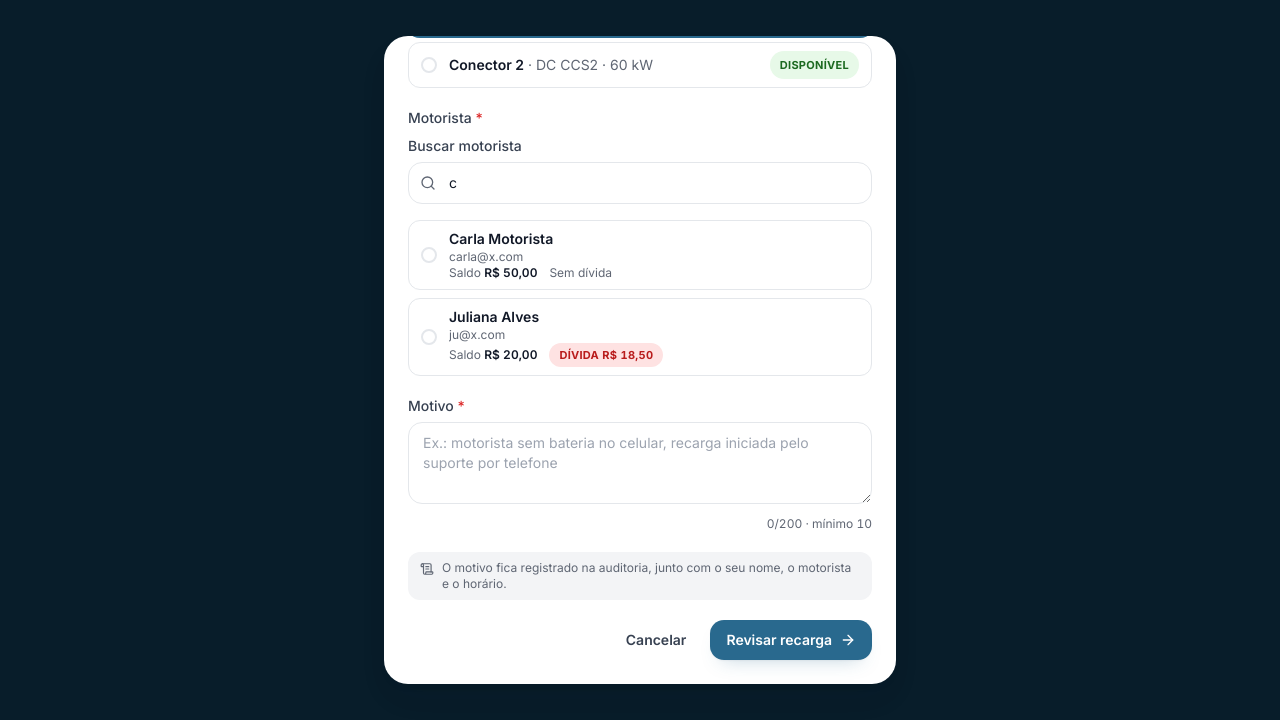
Test: RemoteStartDialog — dinheiro de uma PESSOA: preencher, CONFIRMAR, só então enviar › formulário vazio: 'Revisar' mostra o que falta (conector, motorista, motivo) e NÃO envia nem avança
(page scrolled)
Click the button "Revisar recarga": x=791, y=640 [710,620,872,660]
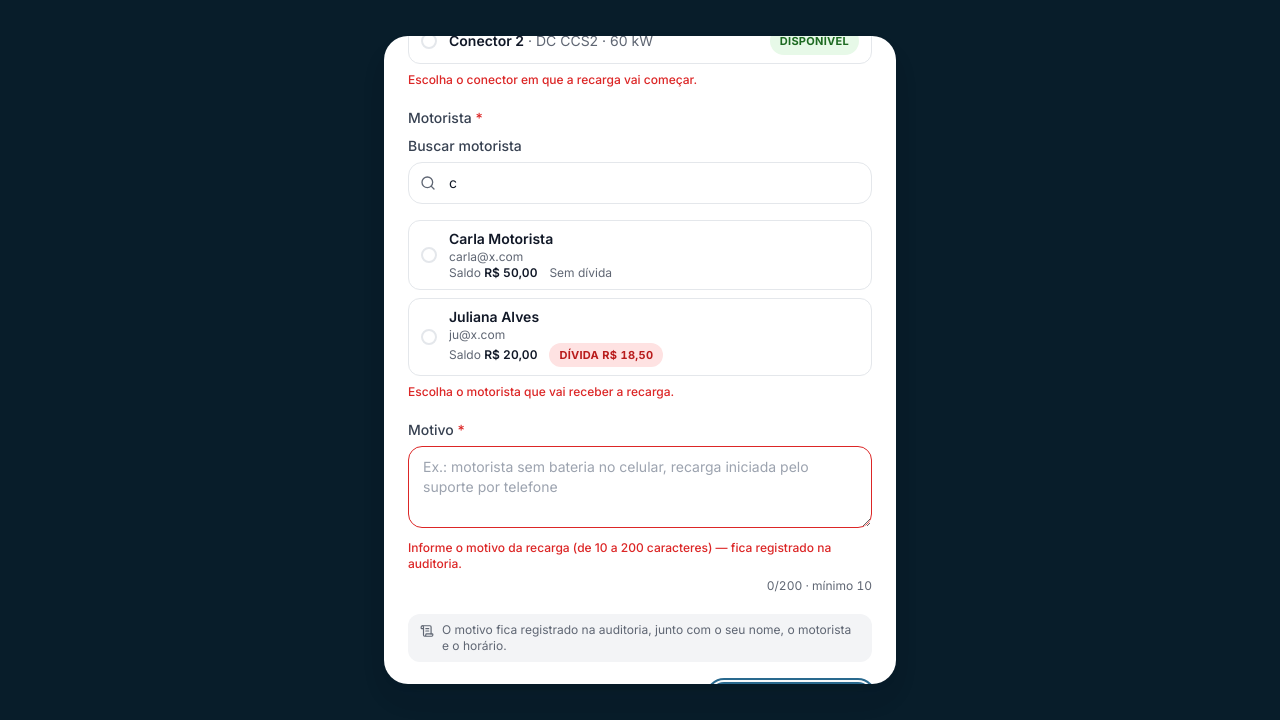
Expected: the text "Escolha o conector em que a recarga vai começar." is shown, [408,72,697,87]
Expected: the text "Escolha o motorista que vai receber a recarga." is shown, [408,384,674,399]
Expected: the text "Informe o motivo" is shown, [408,540,831,571]
